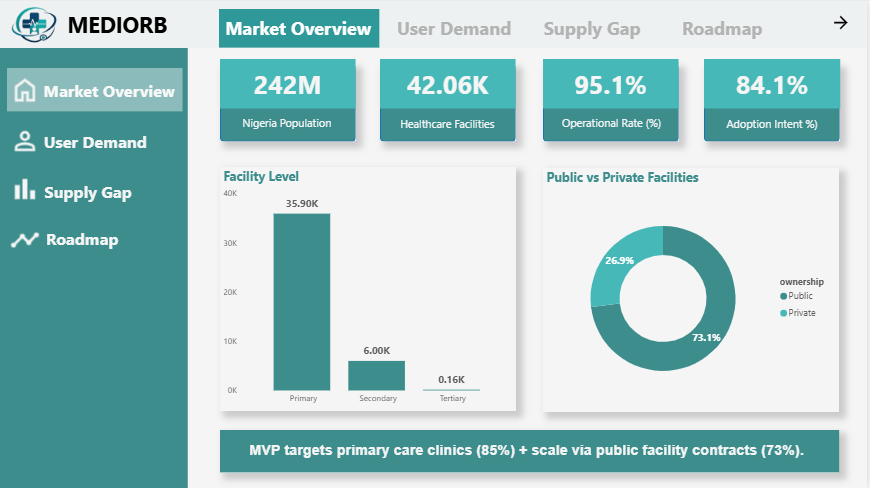

Layout of this report page (visuals, bound fields, positions):
{"tool":"powerbi","page":{"name":"Page 1","canvas":[1280,720],"ordinal":0},"visuals":[{"type":"shape","title":"PI_Header","box":[0,0,1279.3,70.1],"z":0,"group":"g6"},{"type":"shape","title":"P1_Navigation","box":[0,69.3,277.1,650.7],"z":0},{"type":"group","id":"g1","title":"Group 1","box":[324.7,92.6,914.2,602.8],"z":0,"group":"g2"},{"type":"shape","box":[561.4,93.2,200.2,114.4],"z":0,"group":"g1"},{"type":"card","title":"Nigeria Population","fields":{"Values":["CountNonNull(Table1 (2).uid)"]},"box":[561.3,85.2,199.8,73.5],"z":1000,"group":"g2"},{"type":"shape","box":[800.9,93.2,200.2,114.4],"z":1000,"group":"g1"},{"type":"card","title":"Nigeria Population","fields":{"Values":["Table1 (2).Operational Rate"]},"box":[800.8,85.2,199.8,73.5],"z":2000,"group":"g2"},{"type":"shape","box":[1038.7,93.2,200.2,114.4],"z":2000,"group":"g1"},{"type":"card","title":"Nigeria Population","fields":{"Values":["Table1.Adoption Intent %"]},"box":[1038.8,85.2,201.3,73.5],"z":3000,"group":"g2"},{"type":"shape","box":[324.8,92.6,200.2,114.4],"z":3000,"group":"g1"},{"type":"card","title":"Nigeria Population","fields":{"Values":["Sum(state_population_2026_lookup.Estimated_Population_2026)"]},"box":[324.7,85.2,199.8,73.5],"z":4000,"group":"g2"},{"type":"columnChart","title":"Facility Level ","fields":{"Category":["Table1 (2).facility_level"],"Y":["CountNonNull(Table1 (2).state)"]},"box":[324.7,245.2,436.8,359.7],"z":4000,"group":"g1"},{"type":"donutChart","title":"Publicity vs Private Facilities","fields":{"Y":["Sum(Table1 (2).uid)"],"Category":["Table1 (2).ownership"]},"box":[800.7,245.8,437.2,359.9],"z":5000,"group":"g1"},{"type":"textbox","title":"P1_User1","box":[570.2,16.2,201.3,52.9],"z":6000,"group":"g4"},{"type":"shape","title":"P1_CardShape","box":[325.4,632.8,913.5,62.6],"z":6000,"group":"g1"},{"type":"textbox","title":"P1_Supply1","box":[781.7,16.2,183.7,52.9],"z":7000,"group":"g4"},{"type":"textbox","title":"P1_CardText","box":[362.9,645.3,838.4,39.3],"z":7000,"group":"g1"},{"type":"textbox","title":"P1_Roadmap1","box":[980.1,16.2,171.9,52.9],"z":8000,"group":"g4"},{"type":"textbox","box":[561.3,164.5,198.4,50],"z":8000,"group":"g1"},{"type":"textbox","title":"P1_NAV_Market","box":[53.6,110.8,216.3,44.7],"z":9000},{"type":"textbox","box":[1045.8,164.4,185.9,48.3],"z":9000,"group":"g1"},{"type":"textbox","box":[813,163.7,167.5,41.1],"z":10000,"group":"g1"},{"type":"textbox","title":"P1_NAV_Roadmap","box":[60.8,328.9,121.6,53.6],"z":10000},{"type":"textbox","box":[330.9,163.9,185.1,48.5],"z":11000,"group":"g1"},{"type":"textbox","title":"P1_NAV_Supply","box":[60.8,259.2,139.4,53.6],"z":11000},{"type":"textbox","title":"P1_NAV_UserDemand","box":[57.2,185.9,166.3,53.6],"z":12000},{"type":"textbox","title":"P1_MEDIORB","box":[94,7.3,157.2,52.9],"z":13000,"group":"g6"},{"type":"image","title":"P1_ARROWICON","box":[1225.5,11.8,29.4,39.7],"z":18000,"group":"g6"},{"type":"image","title":"P1_MEDIORBICON","box":[0,2.9,105.8,61.7],"z":19000,"group":"g7"},{"type":"group","id":"g2","title":"P1_Content","box":[324.7,85.2,915.4,610.2],"z":21000},{"type":"actionButton","box":[577.5,11.8,189.6,57.3],"z":21500,"group":"g3"},{"type":"actionButton","box":[323.3,11.8,236.6,57.3],"z":22000,"group":"g3"},{"type":"actionButton","box":[781.7,10.3,183.7,57.3],"z":23000,"group":"g3"},{"type":"actionButton","box":[980.1,10.3,171.9,57.3],"z":24000,"group":"g3"},{"type":"group","id":"g3","title":"P1TOPBUTTONS","box":[323.3,10.3,828.7,58.8],"z":24001,"group":"g4"},{"type":"group","id":"g4","title":"Group 2","box":[323.3,10.3,828.7,58.8],"z":24002,"group":"g5"},{"type":"group","id":"g5","title":"Group 3","box":[321.8,10.3,830.2,58.8],"z":24003,"group":"g6"},{"type":"group","id":"g6","title":"P1_HEADER","box":[0,0,1279.3,70.1],"z":24004,"group":"g7"},{"type":"group","id":"g7","title":"Group 4","box":[0,0,1279.8,70.5],"z":24005},{"type":"textbox","title":"P1_Market1","box":[321.8,16.2,236.6,52.9],"z":24502,"group":"g5"},{"type":"actionButton","title":"Marketoverview Button","box":[10.7,98.3,259.2,64.4],"z":24505},{"type":"actionButton","title":"Userdemand Button","box":[10.7,173.4,259.2,64.4],"z":25005},{"type":"actionButton","title":"Roadmap Button","box":[10.7,320,257.4,64.4],"z":25505},{"type":"actionButton","title":"Supplygap Button","box":[10.7,244.9,257.4,64.4],"z":26005}]}

Visuals, with their boxes in screenshot pixels (x1, y1, x2, y2), scaled from the page's 1280x720 canvas onto the 870x488 screenshot:
"PI_Header" shape: [0, 0, 869, 48]
"P1_Navigation" shape: [0, 47, 188, 487]
"Group 1" group: [221, 63, 842, 471]
shape: [382, 63, 518, 141]
"Nigeria Population" card: [382, 58, 517, 108]
shape: [544, 63, 680, 141]
"Nigeria Population" card: [544, 58, 680, 108]
shape: [706, 63, 842, 141]
"Nigeria Population" card: [706, 58, 843, 108]
shape: [221, 63, 357, 140]
"Nigeria Population" card: [221, 58, 356, 108]
"Facility Level " columnChart: [221, 166, 518, 410]
"Publicity vs Private Facilities" donutChart: [544, 167, 841, 411]
"P1_User1" textbox: [388, 11, 524, 47]
"P1_CardShape" shape: [221, 429, 842, 471]
"P1_Supply1" textbox: [531, 11, 656, 47]
"P1_CardText" textbox: [247, 437, 817, 464]
"P1_Roadmap1" textbox: [666, 11, 783, 47]
textbox: [382, 111, 516, 145]
"P1_NAV_Market" textbox: [36, 75, 183, 105]
textbox: [711, 111, 837, 144]
textbox: [553, 111, 666, 139]
"P1_NAV_Roadmap" textbox: [41, 223, 124, 259]
textbox: [225, 111, 351, 144]
"P1_NAV_Supply" textbox: [41, 176, 136, 212]
"P1_NAV_UserDemand" textbox: [39, 126, 152, 162]
"P1_MEDIORB" textbox: [64, 5, 171, 41]
"P1_ARROWICON" image: [833, 8, 853, 35]
"P1_MEDIORBICON" image: [0, 2, 72, 44]
"P1_Content" group: [221, 58, 843, 471]
actionButton: [393, 8, 521, 47]
actionButton: [220, 8, 381, 47]
actionButton: [531, 7, 656, 46]
actionButton: [666, 7, 783, 46]
"P1TOPBUTTONS" group: [220, 7, 783, 47]
"Group 2" group: [220, 7, 783, 47]
"Group 3" group: [219, 7, 783, 47]
"P1_HEADER" group: [0, 0, 869, 48]
"Group 4" group: [0, 0, 869, 48]
"P1_Market1" textbox: [219, 11, 380, 47]
"Marketoverview Button" actionButton: [7, 67, 183, 110]
"Userdemand Button" actionButton: [7, 118, 183, 161]
"Roadmap Button" actionButton: [7, 217, 182, 261]
"Supplygap Button" actionButton: [7, 166, 182, 210]
